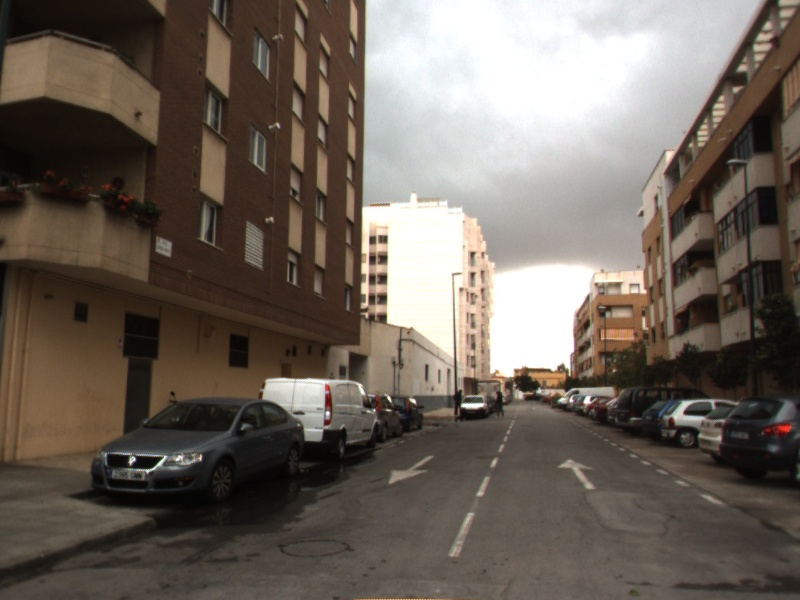STRAIGHT: (555, 457, 600, 491)
